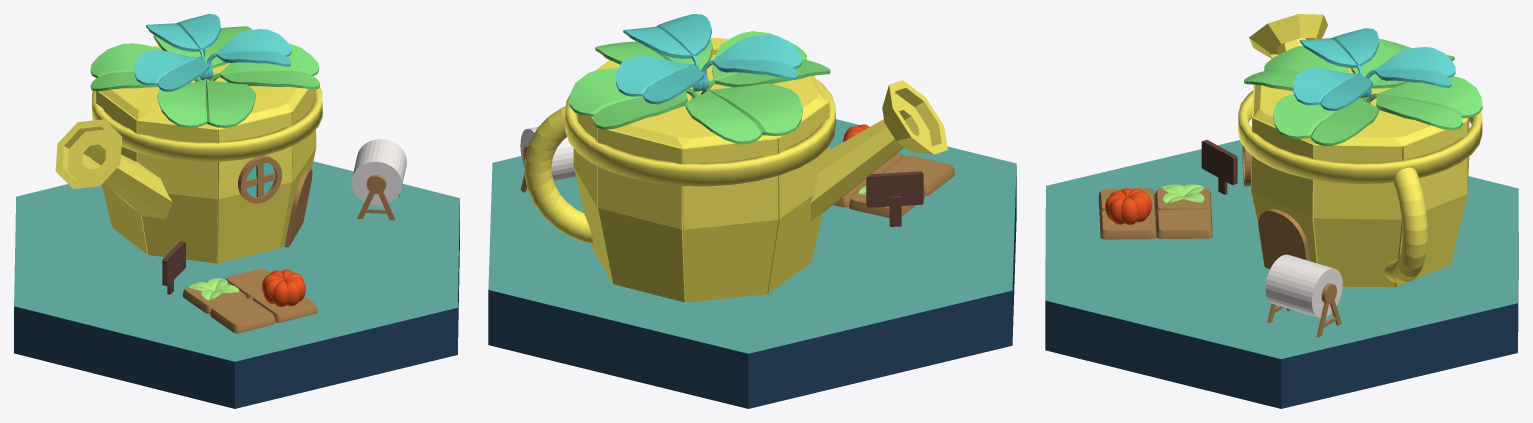
File: Macro - farm barn lv1 wm 2.fbx
3 views of the same model, side by side, from view 1: azimuth 30°, elevation 25°; view 2: azimuth 150°, elevation 25°; view 3: azimuth 270°, elevation 25° (orthographic). The views are drawn at different scales.
Parts seen in each view (by area): view 1: Cylinder.154, Cube.020, Cube.047, Cube.019, Plane.008, Cube.046, Cube.045, Plane.005, Cylinder, Plane.015, Plane.010, Plane.009 (+8 smaller); view 2: Cylinder.154, Cube.020, Cube.047, Plane.009, Cube.045, Cube.017, Plane.007, Cube.046, Plane.016, Plane.015, Plane.010, Cube.019 (+5 smaller); view 3: Cylinder.154, Cube.020, Cube.047, Cube.019, Plane.007, Plane.005, Cylinder, Cube.017, Plane.010, Plane.016, Cube.033, Plane.015 (+7 smaller).
Part boxes in pixels (x1,y1,x2,y2): Cylinder.154: [14, 161, 459, 408]; Cube.020: [95, 45, 316, 263]; Cube.047: [92, 87, 322, 161]; Cube.019: [182, 268, 317, 333]; Plane.008: [157, 79, 255, 128]; Cube.046: [55, 119, 122, 188]; Cube.045: [91, 148, 172, 218]; Plane.005: [209, 43, 319, 89]; Cylinder: [351, 139, 406, 205]; Plane.015: [134, 49, 209, 91]; Plane.010: [207, 29, 291, 79]; Plane.009: [90, 43, 200, 91]; Cylinder.154: [488, 119, 1016, 408]; Cube.020: [573, 37, 829, 302]; Cube.047: [565, 55, 835, 186]; Plane.009: [685, 83, 802, 144]; Cube.045: [810, 119, 904, 220]; Cube.017: [524, 106, 592, 243]; Plane.007: [569, 68, 697, 129]; Cube.046: [882, 80, 947, 154]; Plane.016: [616, 55, 703, 104]; Plane.015: [701, 34, 801, 90]; Plane.010: [623, 14, 711, 69]; Cube.019: [833, 152, 954, 217]; Cylinder.154: [1045, 140, 1518, 408]; Cube.020: [1250, 84, 1469, 287]; Cube.047: [1238, 90, 1482, 183]; Cube.019: [1098, 188, 1212, 239]; Plane.007: [1365, 76, 1482, 130]; Plane.005: [1273, 93, 1378, 145]; Cylinder: [1265, 254, 1342, 317]; Cube.017: [1384, 167, 1427, 283]; Plane.010: [1293, 67, 1372, 110]; Plane.016: [1365, 47, 1455, 97]; Cube.033: [1258, 208, 1310, 268]; Plane.015: [1299, 28, 1378, 76].
Bounding box in the file's own units: 197 × 95.43 × 172.
